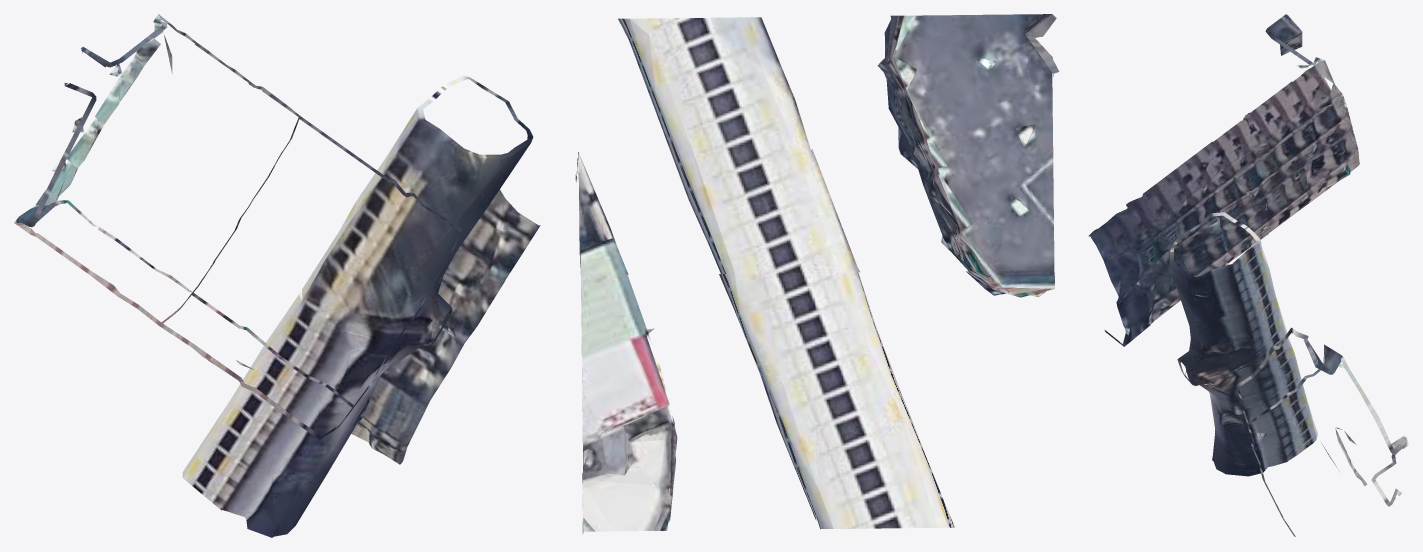
3 renders of one model, left to right at view 1: azimuth 30°, elevation 25°; view 2: azimuth 150°, elevation 25°; view 3: azimuth 270°, elevation 25°, orthographic. The views are drawn at different scales.
Bounding box in the file's own units: 48.36 × 49.88 × 36.53.
2 materials, 2 textured.
